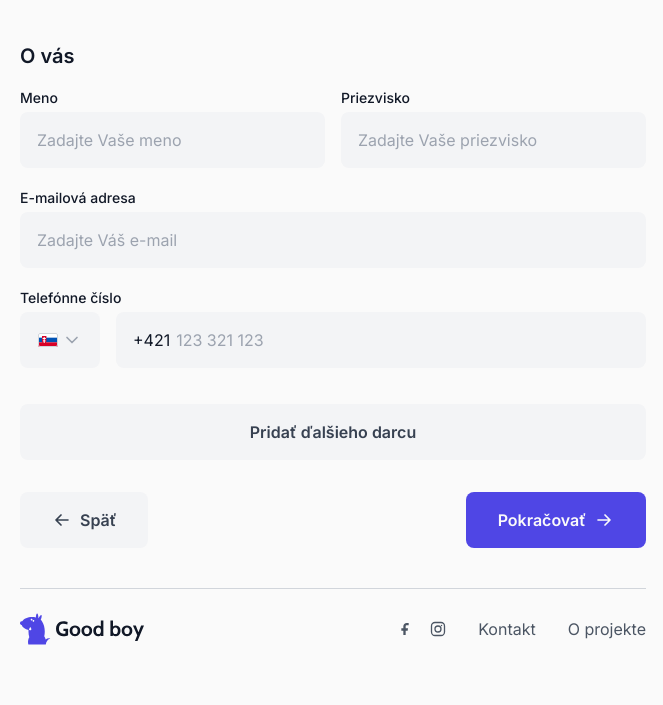
Test: Step2 › shows all 4 Slovak errors when submitting empty, each wired via aria-invalid + aria-describedby
(page scrolled)
Expected: the field labelled "Meno" is shown, [20,112,325,168]
Click the button "Pokračovať". click: click(556, 520)
box: [466,492,646,548]
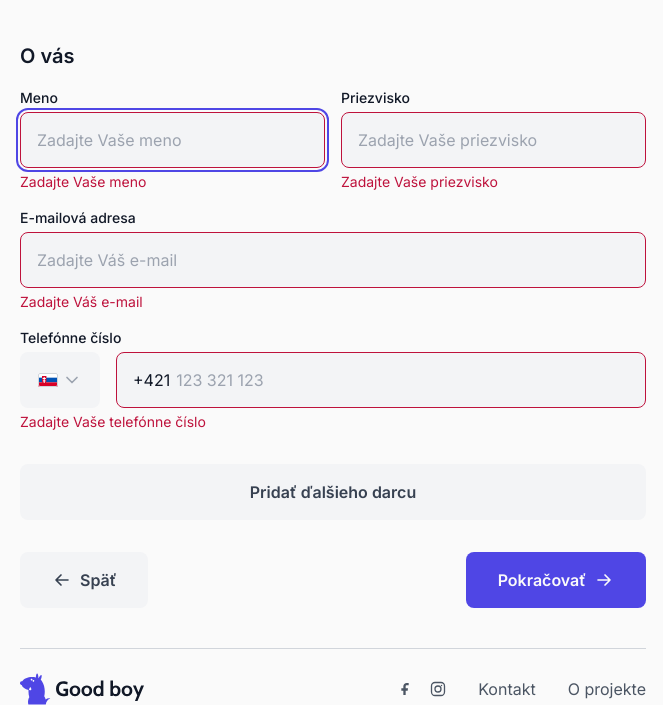
Expected: the text with id "contributors" reads "Zadajte Vaše meno", [20,173,146,190]
Expected: the text with id "contributors" reads "Zadajte Vaše priezvisko", [341,173,498,190]
Expected: the text with id "contributors" reads "Zadajte Váš e-mail", [20,293,143,310]
